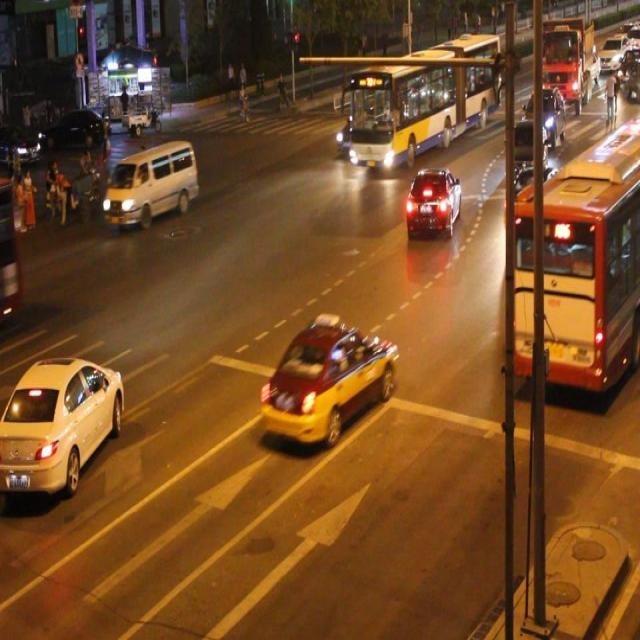car: (258, 317, 397, 446), (0, 358, 124, 494), (404, 165, 459, 240), (504, 163, 561, 232), (334, 102, 387, 156), (504, 122, 545, 186)
truck: (104, 140, 198, 227)
van: (509, 111, 640, 390), (350, 34, 498, 170)
